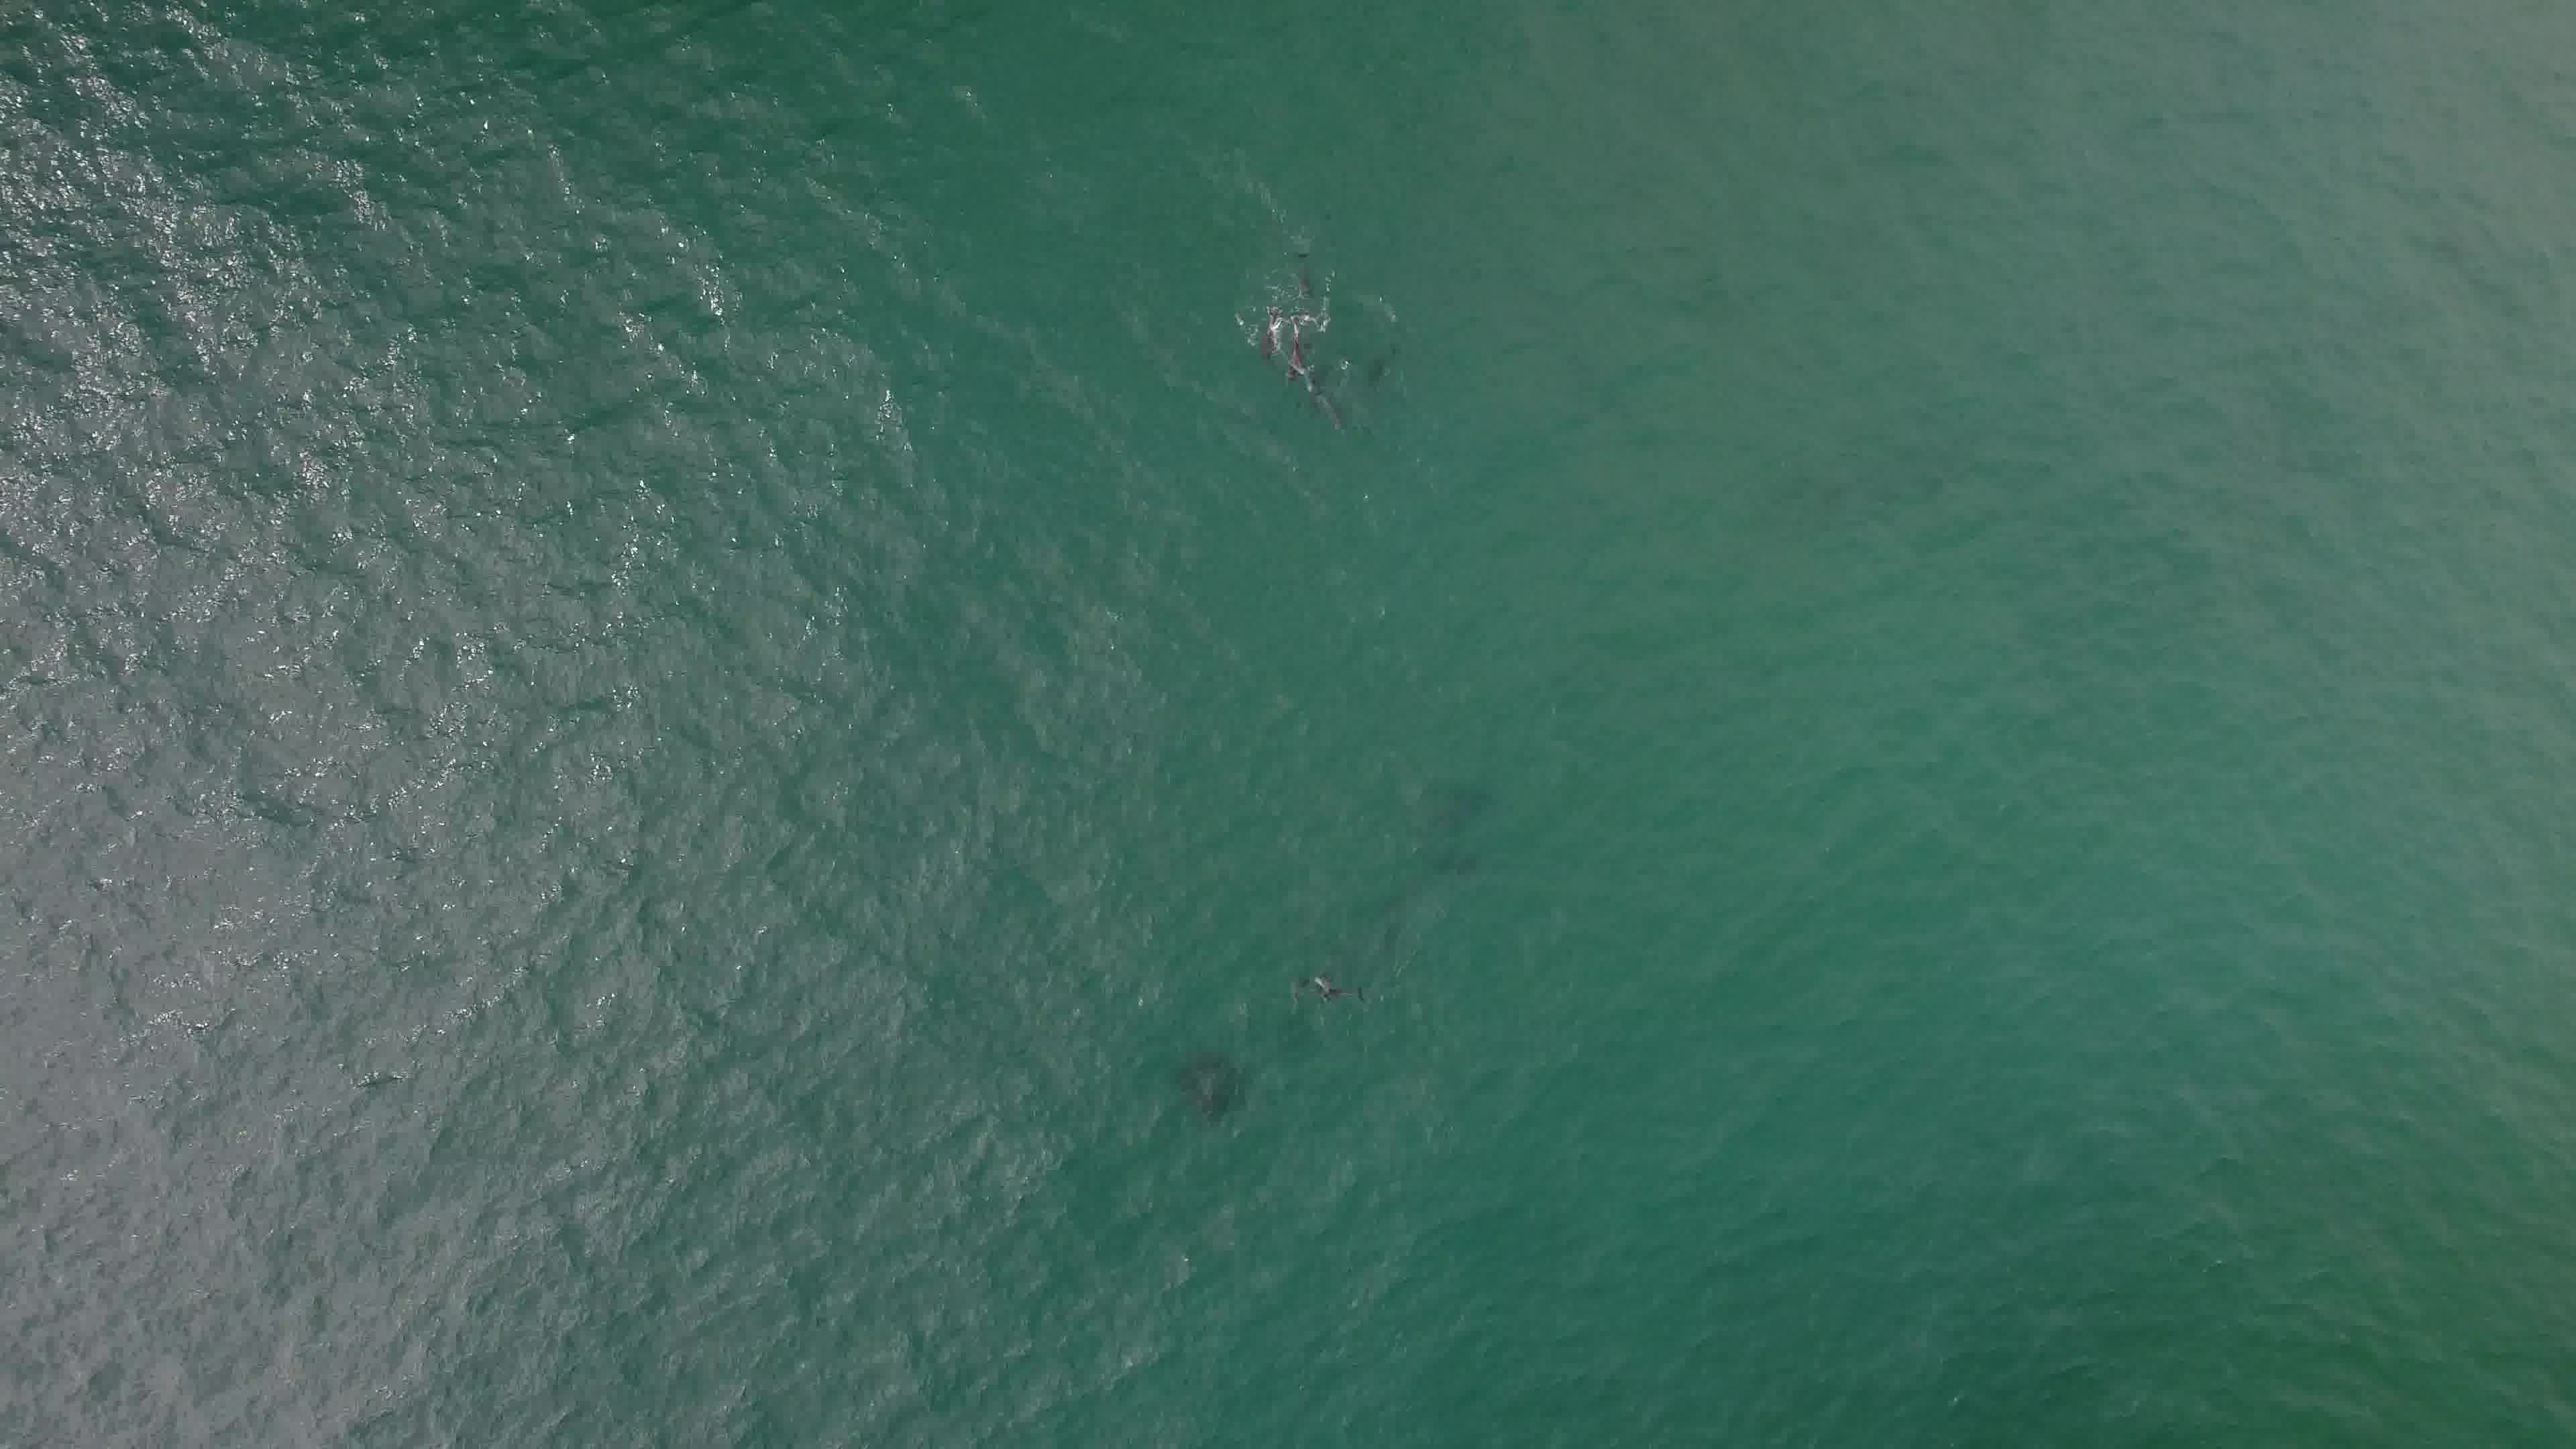dolphin: (1276, 232, 1330, 336), (1297, 954, 1375, 1017), (1240, 274, 1286, 370), (1283, 304, 1313, 387)
